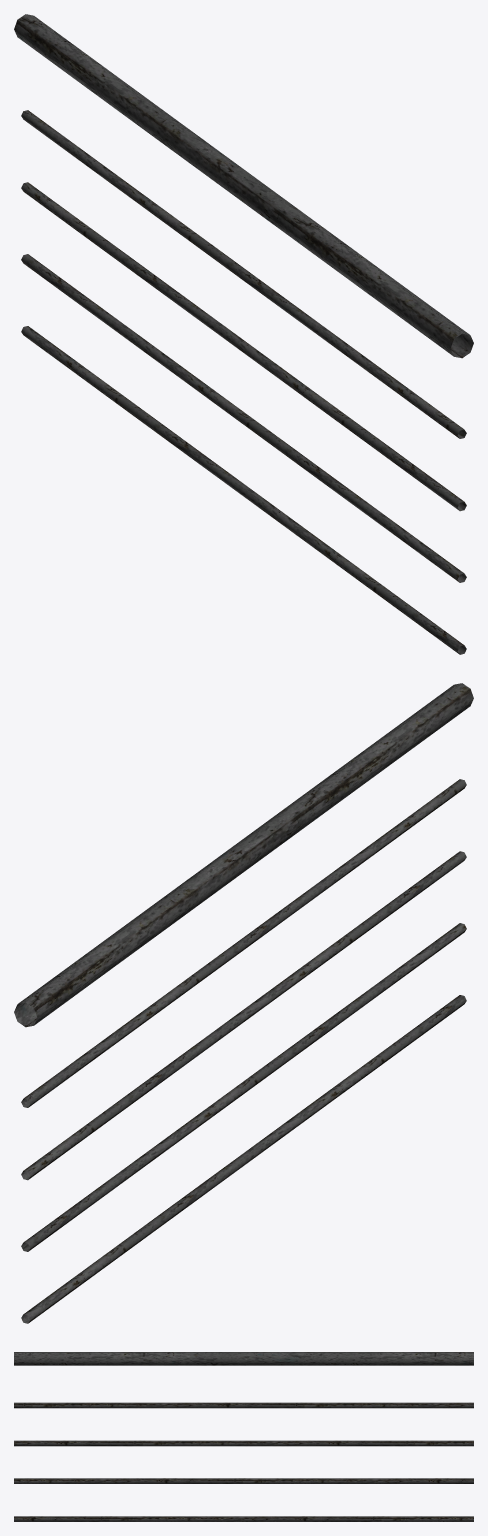
Rendered from p6_blackout_rail_simple_64_lod0.glb.
3 views of the same model, one above another, from view 1: azimuth 30°, elevation 25°; view 2: azimuth 150°, elevation 25°; view 3: azimuth 270°, elevation 25° (orthographic). The views are drawn at different scales.
Visible parts, largest first — view 1: surf0; view 2: surf0; view 3: surf0.
Boxes of the visible parts, x1,y1,x2,y2 form: surf0: (14, 14, 473, 654); surf0: (14, 683, 473, 1323); surf0: (14, 1352, 473, 1521).
Size of the model in its own units: 1.99 by 25.94 by 64.
